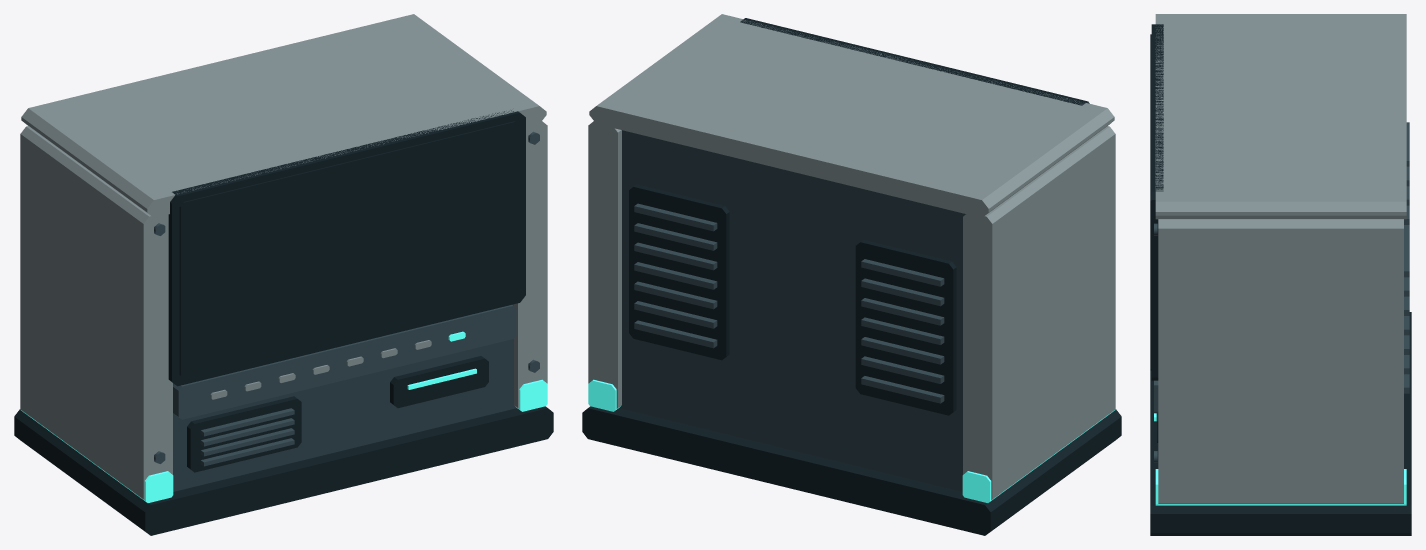
File: mission-terminal-t01.glb
The picture shows the model from 3 angles, left to right: view 1: azimuth 30°, elevation 25°; view 2: azimuth 150°, elevation 25°; view 3: azimuth 270°, elevation 25°; orthographic projection.
Parts seen in each view (by area): view 1: T01_Frame_Surface, T01_Gasket_Surface, T01_Shell_Surface, T01_Fastener_Surface, T01_Signal_Surface; view 2: T01_Frame_Surface, T01_Shell_Surface, T01_Gasket_Surface, T01_Fastener_Surface, T01_Signal_Surface; view 3: T01_Frame_Surface, T01_Gasket_Surface, T01_Fastener_Surface, T01_Signal_Surface.
Part boxes in pixels (left/top/right/bottom): T01_Frame_Surface: left=20, top=14, right=547, bottom=499; T01_Gasket_Surface: left=14, top=110, right=553, bottom=535; T01_Shell_Surface: left=173, top=304, right=516, bottom=491; T01_Fastener_Surface: left=154, top=131, right=539, bottom=466; T01_Signal_Surface: left=20, top=331, right=547, bottom=502; T01_Frame_Surface: left=588, top=14, right=1115, bottom=499; T01_Shell_Surface: left=619, top=130, right=965, bottom=491; T01_Gasket_Surface: left=582, top=18, right=1121, bottom=535; T01_Fastener_Surface: left=634, top=203, right=944, bottom=403; T01_Signal_Surface: left=588, top=379, right=1115, bottom=502; T01_Frame_Surface: left=1155, top=14, right=1406, bottom=503; T01_Gasket_Surface: left=1150, top=24, right=1411, bottom=535; T01_Fastener_Surface: left=1154, top=122, right=1409, bottom=462; T01_Signal_Surface: left=1154, top=413, right=1406, bottom=505.
Size of the model in its own units: 1.8 by 1.4 by 1.
